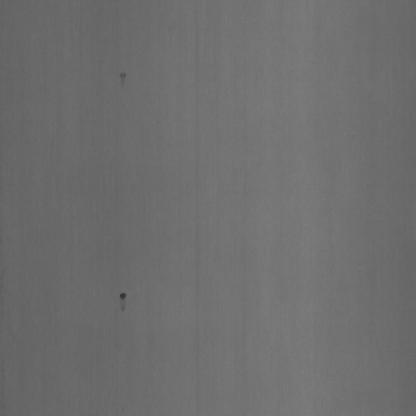inclusion: (119, 290, 127, 314), (119, 68, 127, 88)
